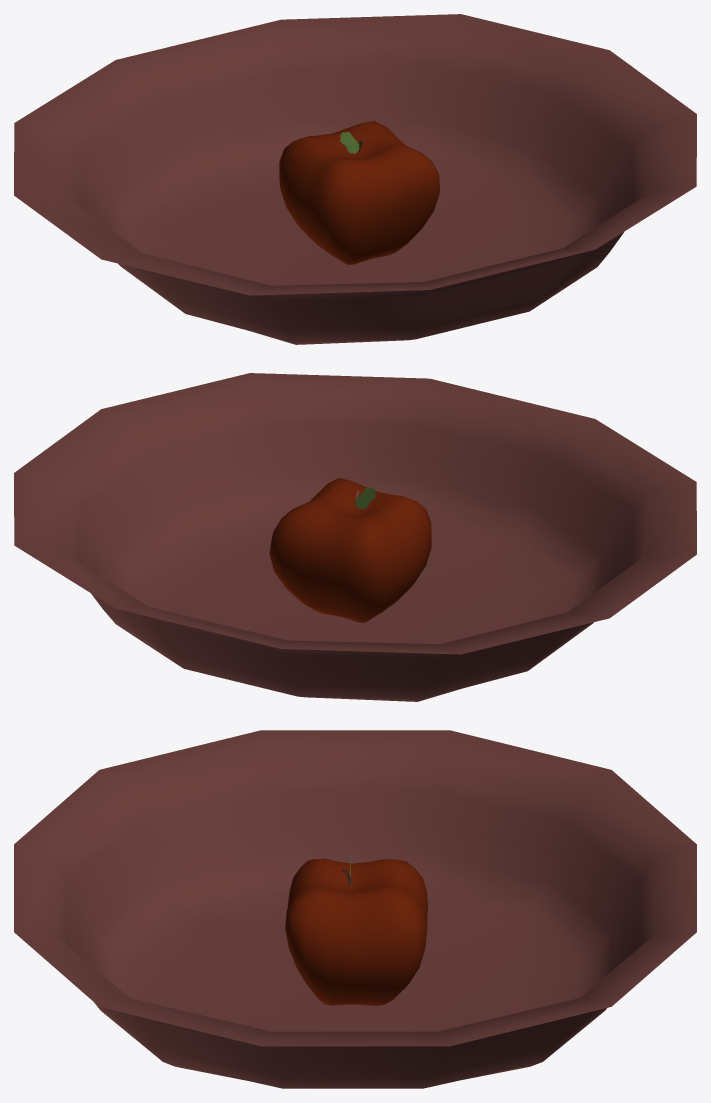
Rendered from Apple_01.fbx.
The picture shows the model from 3 angles, top to bottom: view 1: azimuth 30°, elevation 25°; view 2: azimuth 150°, elevation 25°; view 3: azimuth 270°, elevation 25°; orthographic projection. The views are drawn at different scales.
Parts seen in each view (by area): view 1: Empty_Mesh_1, Empty_Mesh; view 2: Empty_Mesh_1, Empty_Mesh; view 3: Empty_Mesh_1, Empty_Mesh.
Boxes of the visible parts, x1=… form: Empty_Mesh_1: x1=14, y1=14, x2=696, y2=344; Empty_Mesh: x1=279, y1=121, x2=439, y2=264; Empty_Mesh_1: x1=14, y1=373, x2=696, y2=701; Empty_Mesh: x1=269, y1=478, x2=431, y2=622; Empty_Mesh_1: x1=14, y1=730, x2=696, y2=1088; Empty_Mesh: x1=285, y1=855, x2=427, y2=1005.
Bounding box in the file's own units: 413 × 86.6 × 377.
